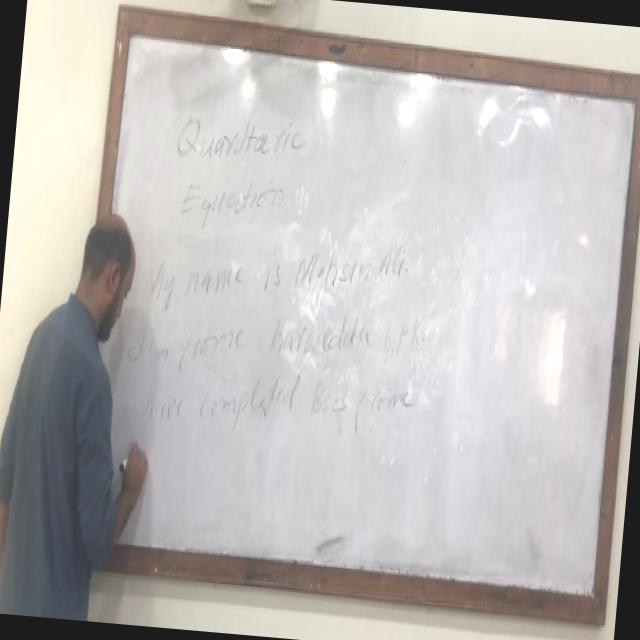Instructor: (21, 167, 147, 614)
White-board: (63, 8, 640, 618)
